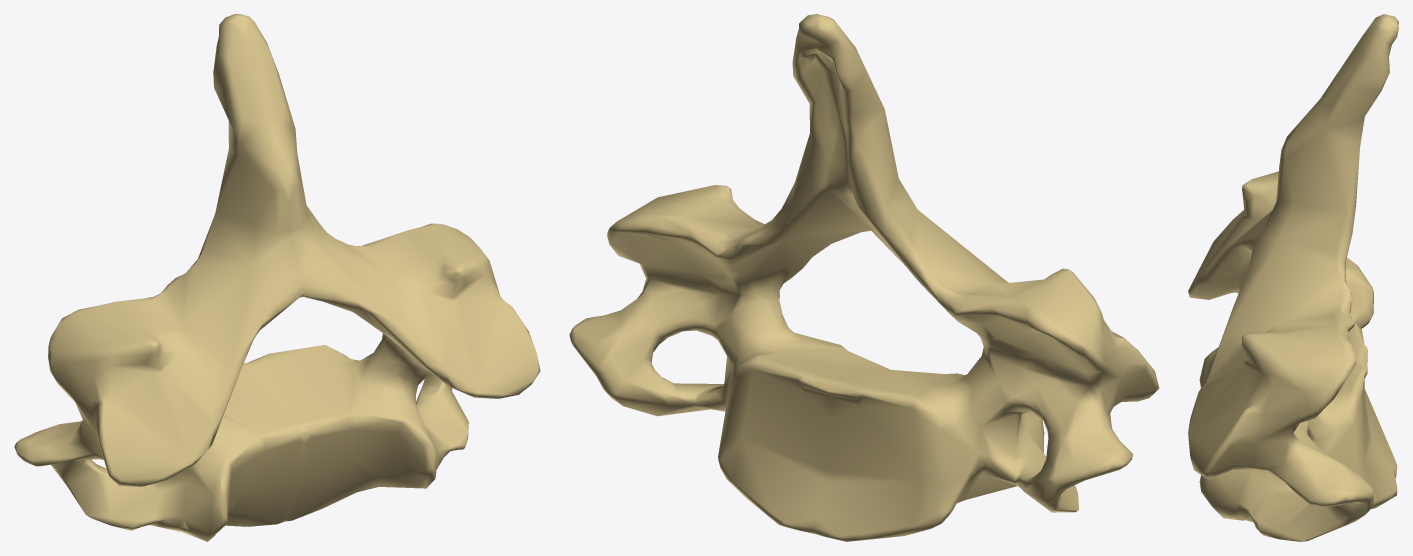
3 views of the same model, side by side, from view 1: azimuth 30°, elevation 25°; view 2: azimuth 150°, elevation 25°; view 3: azimuth 270°, elevation 25° (orthographic). The views are drawn at different scales.
Parts seen in each view (by area): view 1: 第五颈椎; view 2: 第五颈椎; view 3: 第五颈椎.
Part boxes in pixels (x1,y1,x2,y2): 第五颈椎: (14,14,540,541); 第五颈椎: (569,14,1159,541); 第五颈椎: (1188,14,1398,541).
Size of the model in its own units: 0.0905 by 0.0832 by 0.0332.
